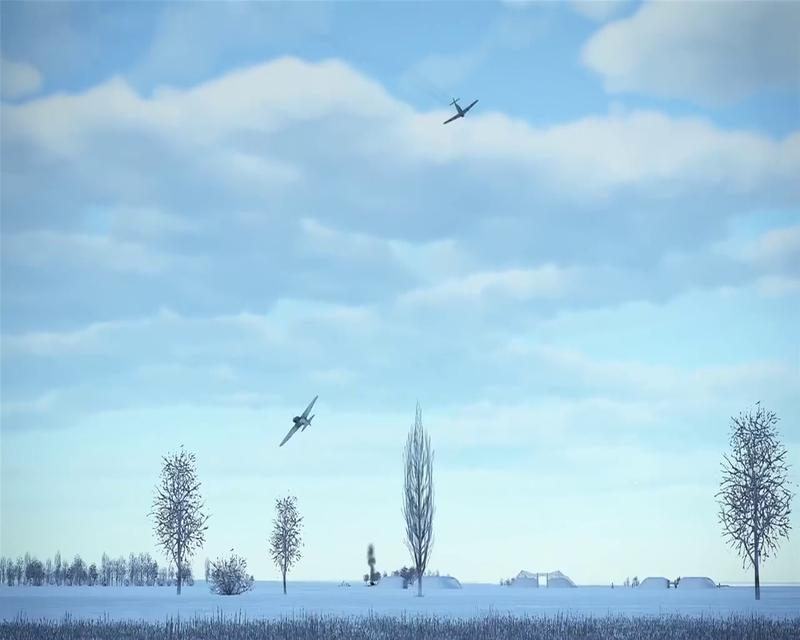UAV: (278, 396, 320, 447), (443, 96, 479, 126)
